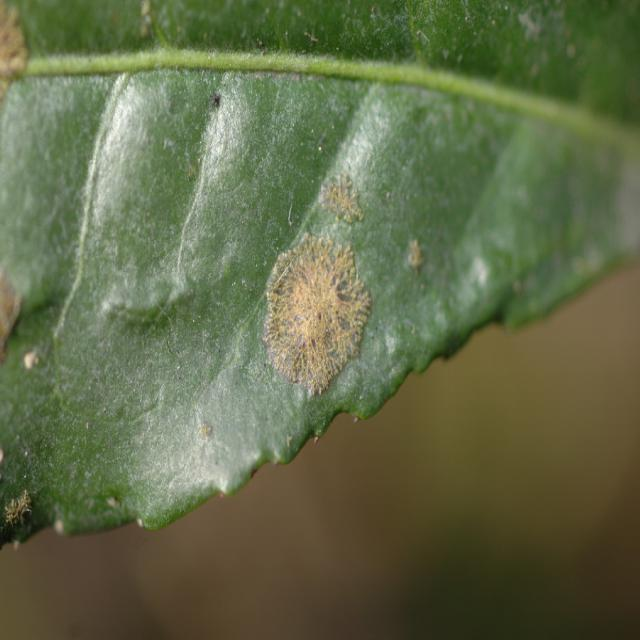Tea algae leaf spot: (184, 162, 441, 437)
